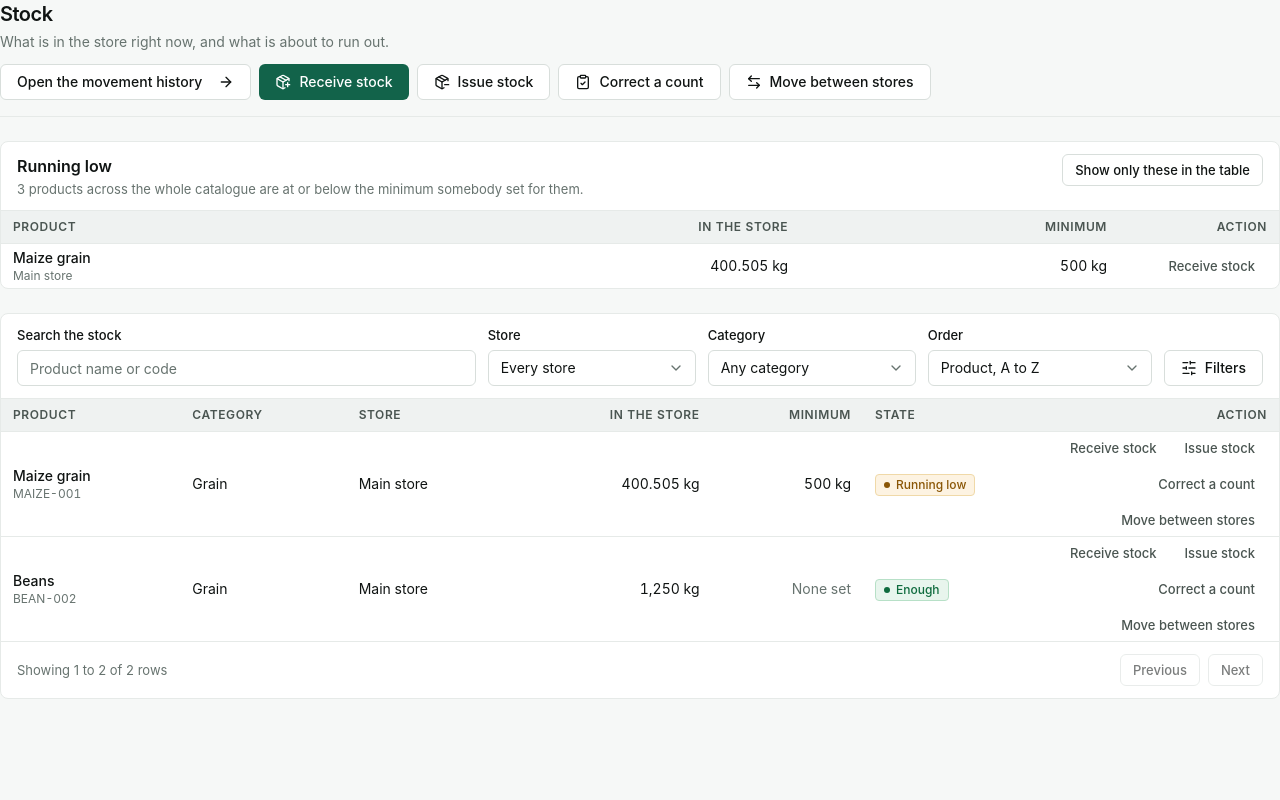
correcting a count › asks what was counted rather than the difference, and will not send it without a reason
Expected: the 1st text "400.505 kg" is shown, top-left (710, 257), bottom-right (788, 274)
Click the button "Correct a count" in the row of "MAIZE-001" at (1207, 484), box top-left (1146, 468), bottom-right (1267, 500)
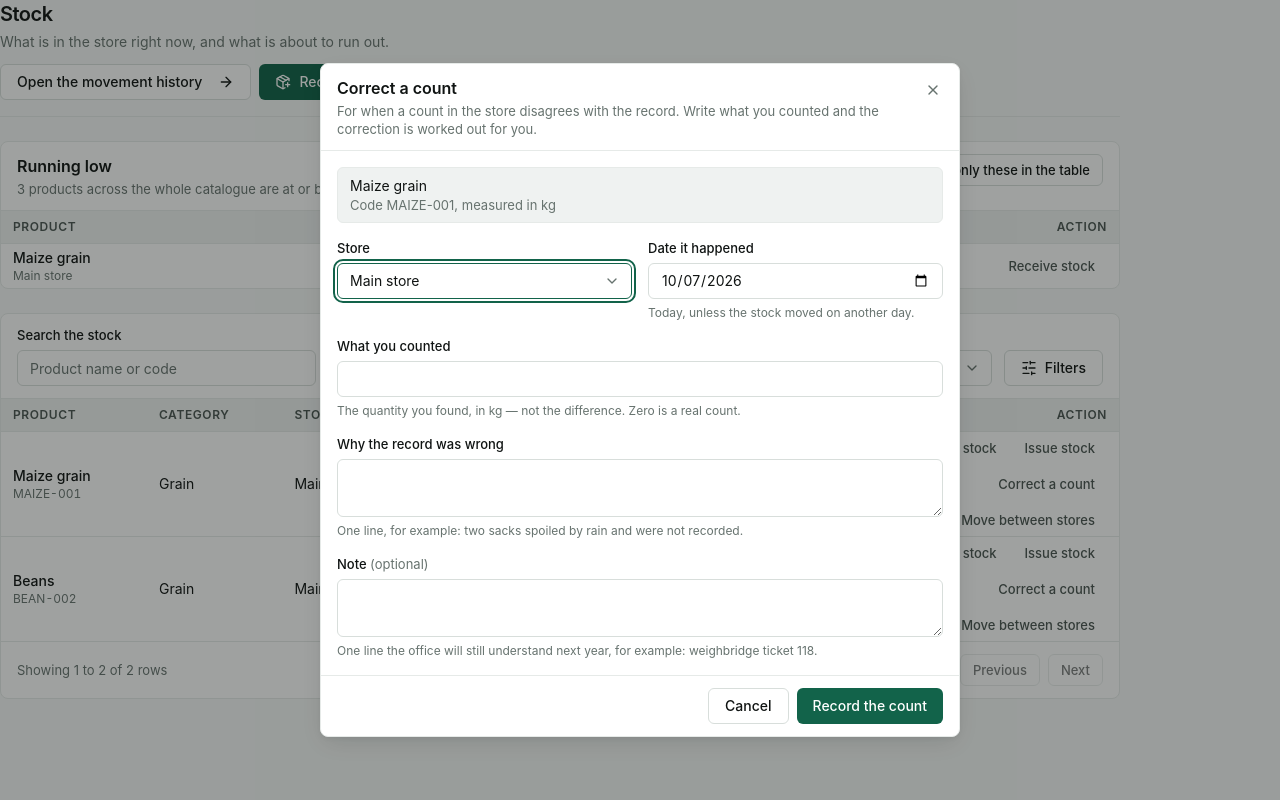
Expected: the dialog is shown, top-left (320, 63), bottom-right (960, 737)
Expected: the field labelled "What you counted" is shown
Expected: the text "not the difference" is shown, top-left (337, 403), bottom-right (741, 418)
Type "8" into the field labelled "What you counted" at (640, 379), box top-left (337, 361), bottom-right (943, 397)
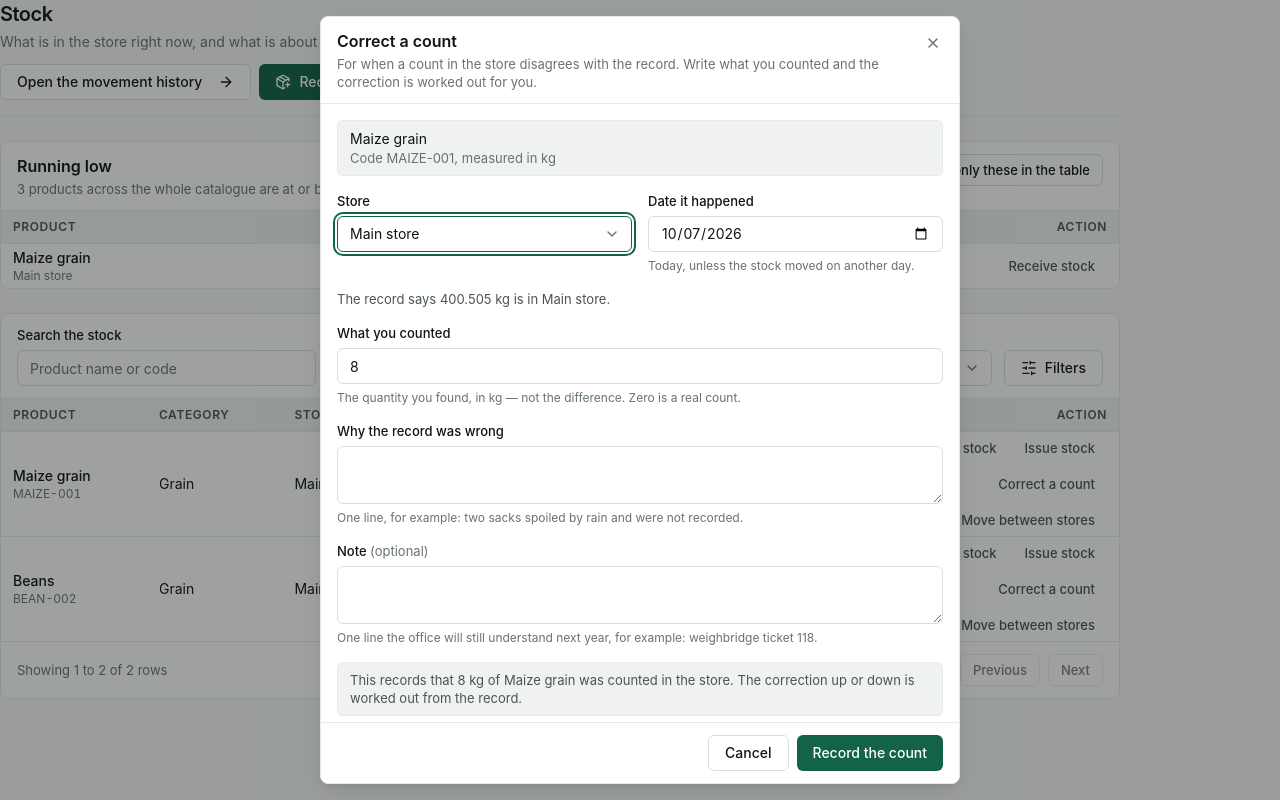
Submit the form with id "adjust-stock-form", box top-left (337, 120), bottom-right (943, 716)
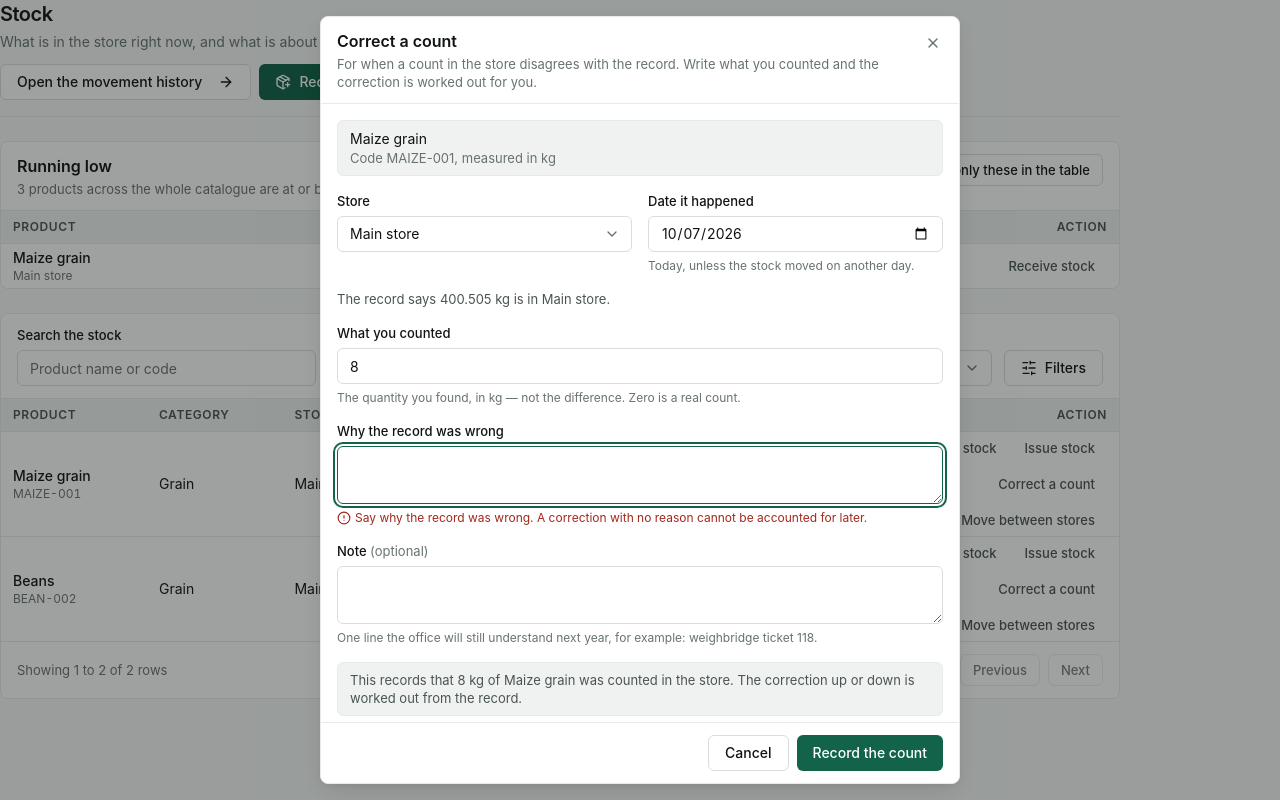
Expected: the text "Say why the record was wrong" is shown, top-left (355, 510), bottom-right (867, 525)
Type "Two sacks spoiled by rain" into the text box labelled "Why the record was wrong" at (640, 475), box top-left (337, 446), bottom-right (943, 504)
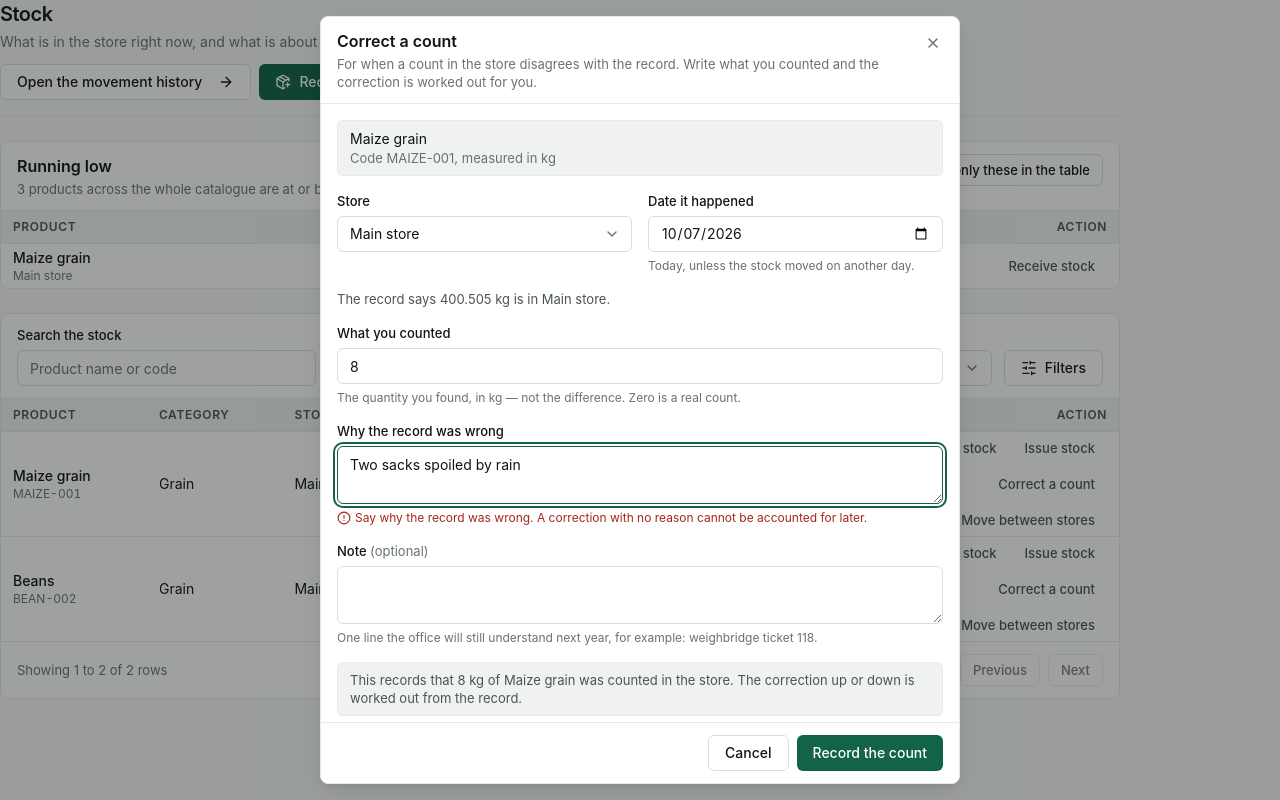
Submit the form with id "adjust-stock-form", box top-left (337, 120), bottom-right (943, 716)
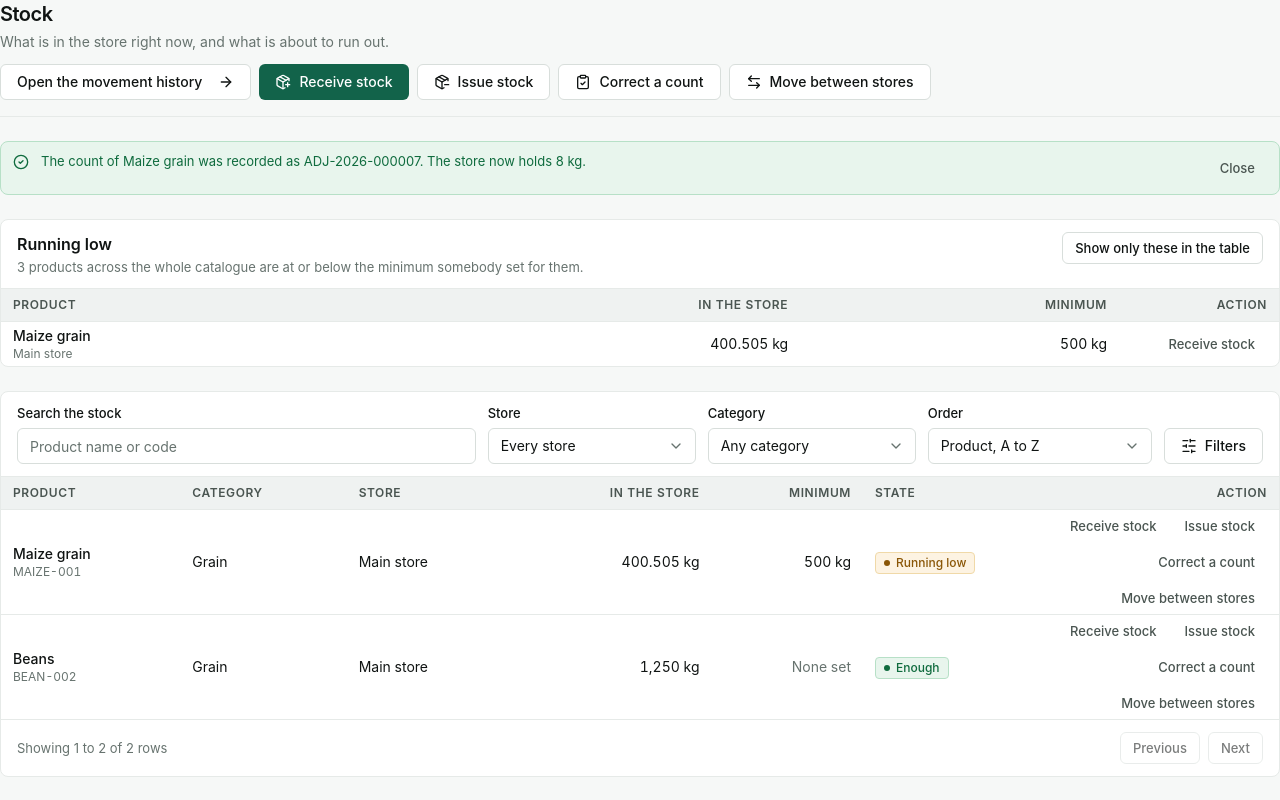
Expected: the dialog is gone
